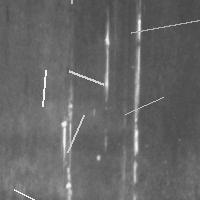scratches: (126, 10, 148, 186), (56, 97, 77, 200), (126, 14, 200, 37), (98, 14, 115, 105), (9, 184, 93, 200), (120, 92, 168, 119), (62, 110, 88, 157), (64, 66, 108, 89), (38, 65, 51, 111), (64, 0, 77, 8)
